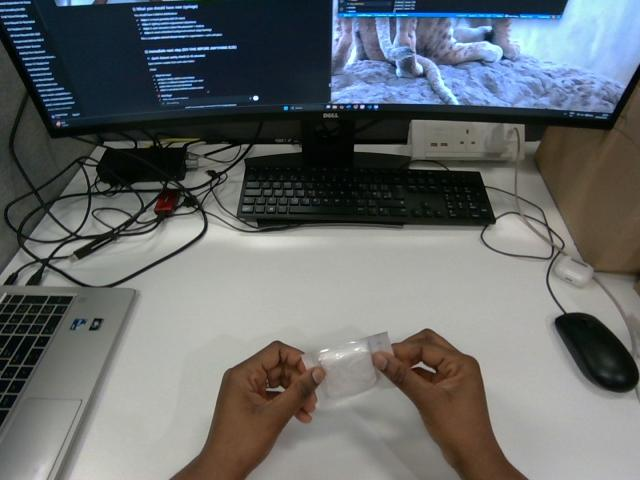gauze: (302, 332, 392, 407)
